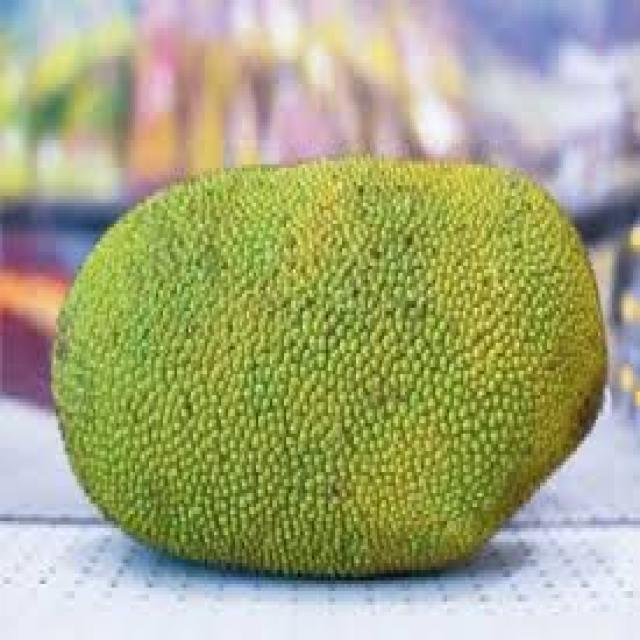organic waste: (49, 154, 607, 577)
